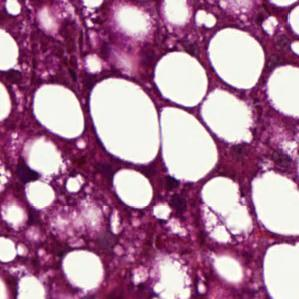ballooning: (199, 173, 258, 248), (144, 250, 200, 298), (17, 133, 69, 182)
